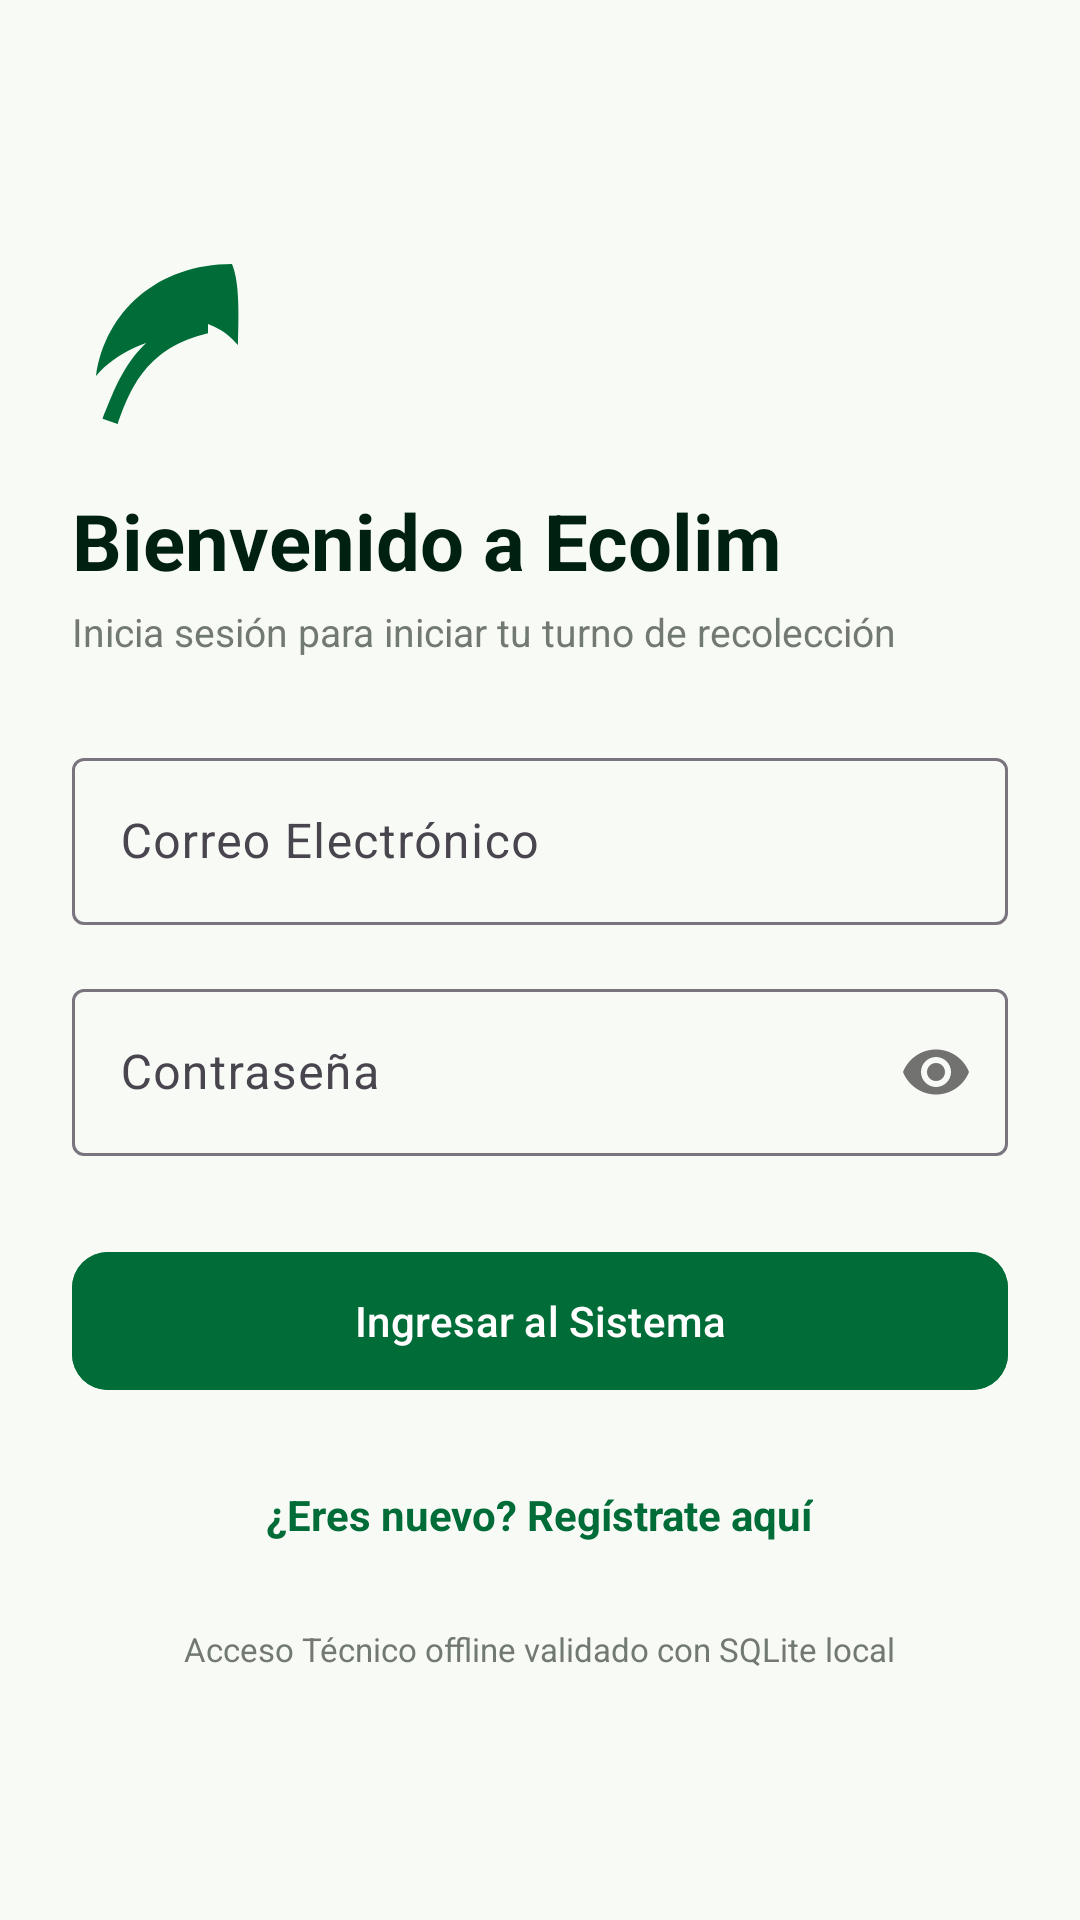

Named icons in this screenshot (1080px x 1920px) and their centers, [x,y]:
eco leaf: [167,344]
